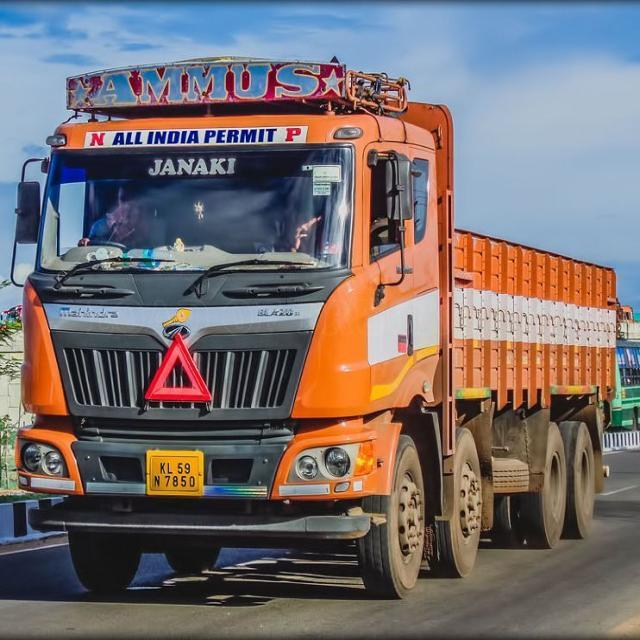Truck: (5, 53, 614, 598)
